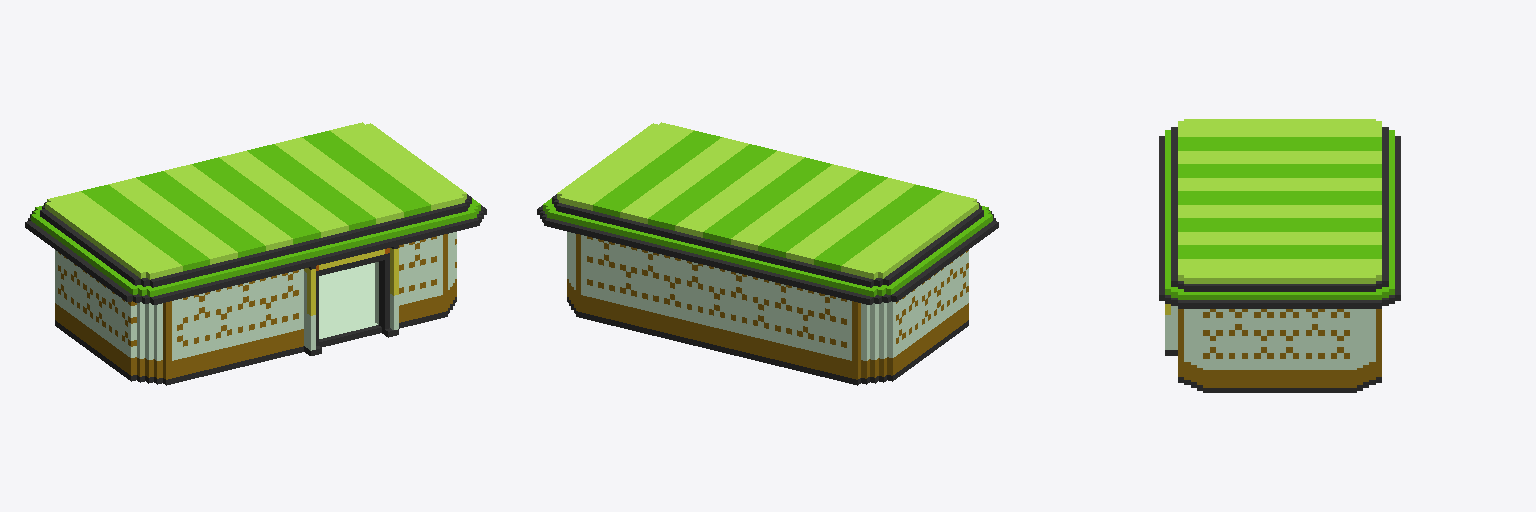
3 views of the same model, side by side, from view 1: azimuth 30°, elevation 25°; view 2: azimuth 150°, elevation 25°; view 3: azimuth 270°, elevation 25° (orthographic).
Parts seen in each view (by area): view 1: Model; view 2: Model; view 3: Model.
Boxes of the visible parts, <box> form: Model: <box>25,122,486,385</box>; Model: <box>537,122,998,385</box>; Model: <box>1159,119,1400,392</box>.
Size of the model in its own units: 32 by 9.85 by 18.71.
1 materials, 1 textured.